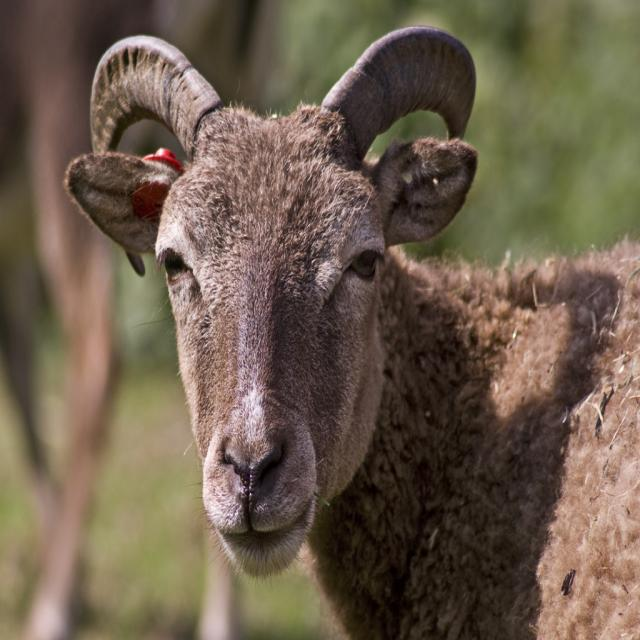Sheep: (62, 28, 638, 638)
